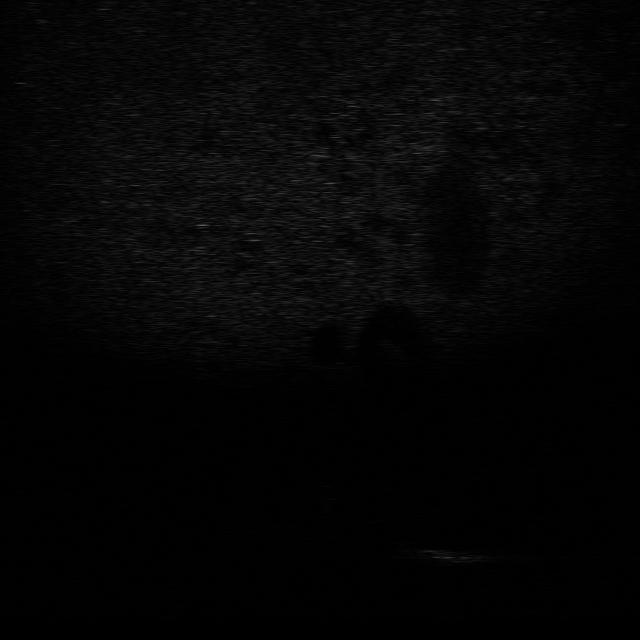ball: (307, 482, 343, 502)
metal bucket: (408, 546, 502, 569)
tyre: (364, 517, 431, 548)
